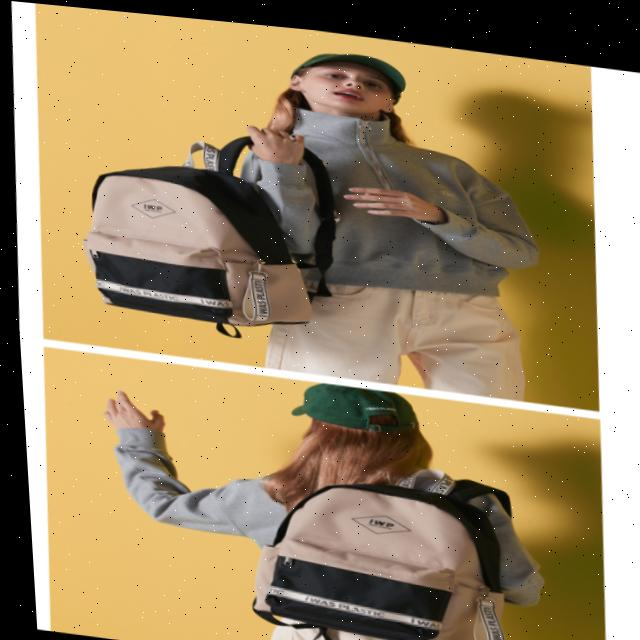backpack: (41, 103, 346, 329), (226, 441, 541, 640)
